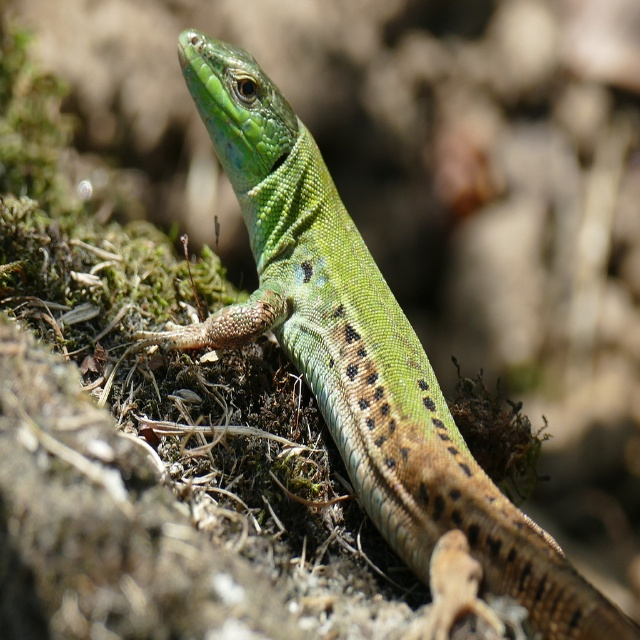Lizard: (130, 26, 638, 639)
